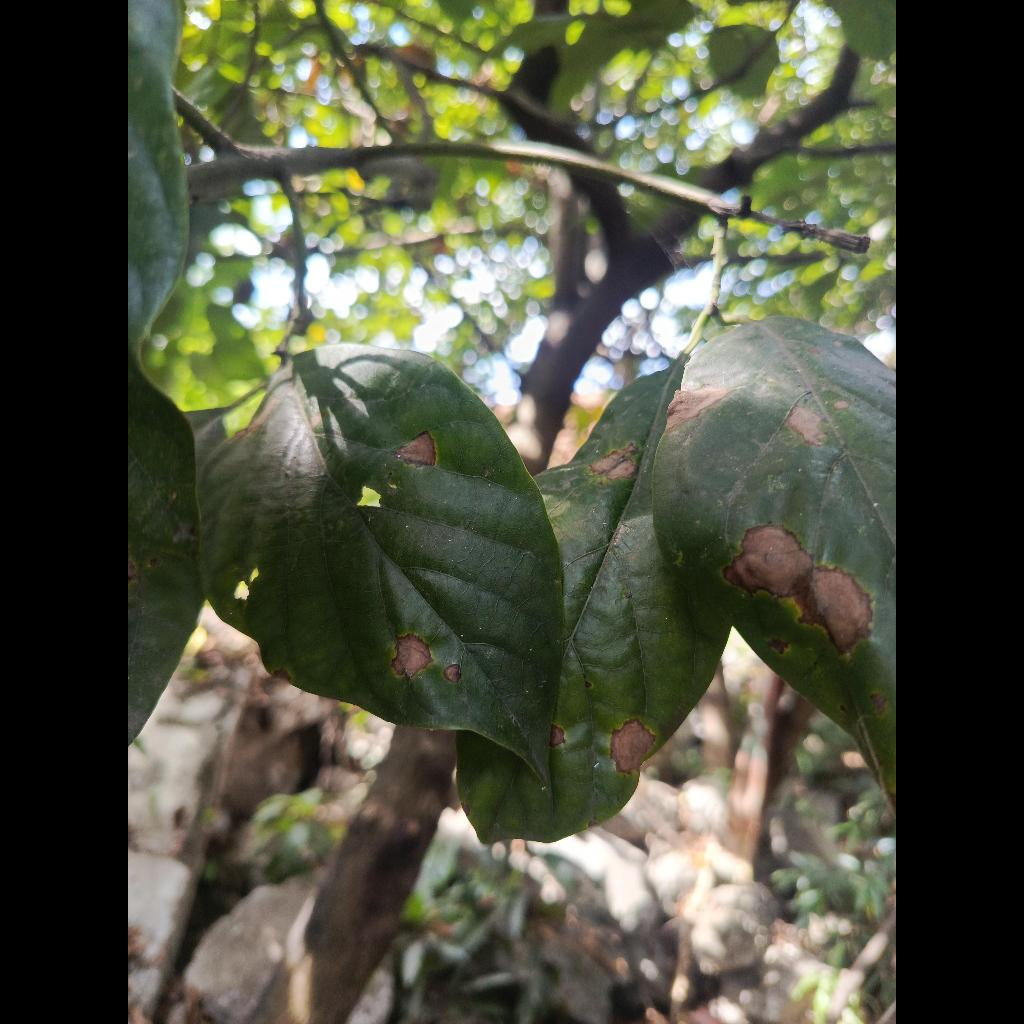antracnosis_hoja: (198, 344, 563, 790), (653, 317, 896, 802)
